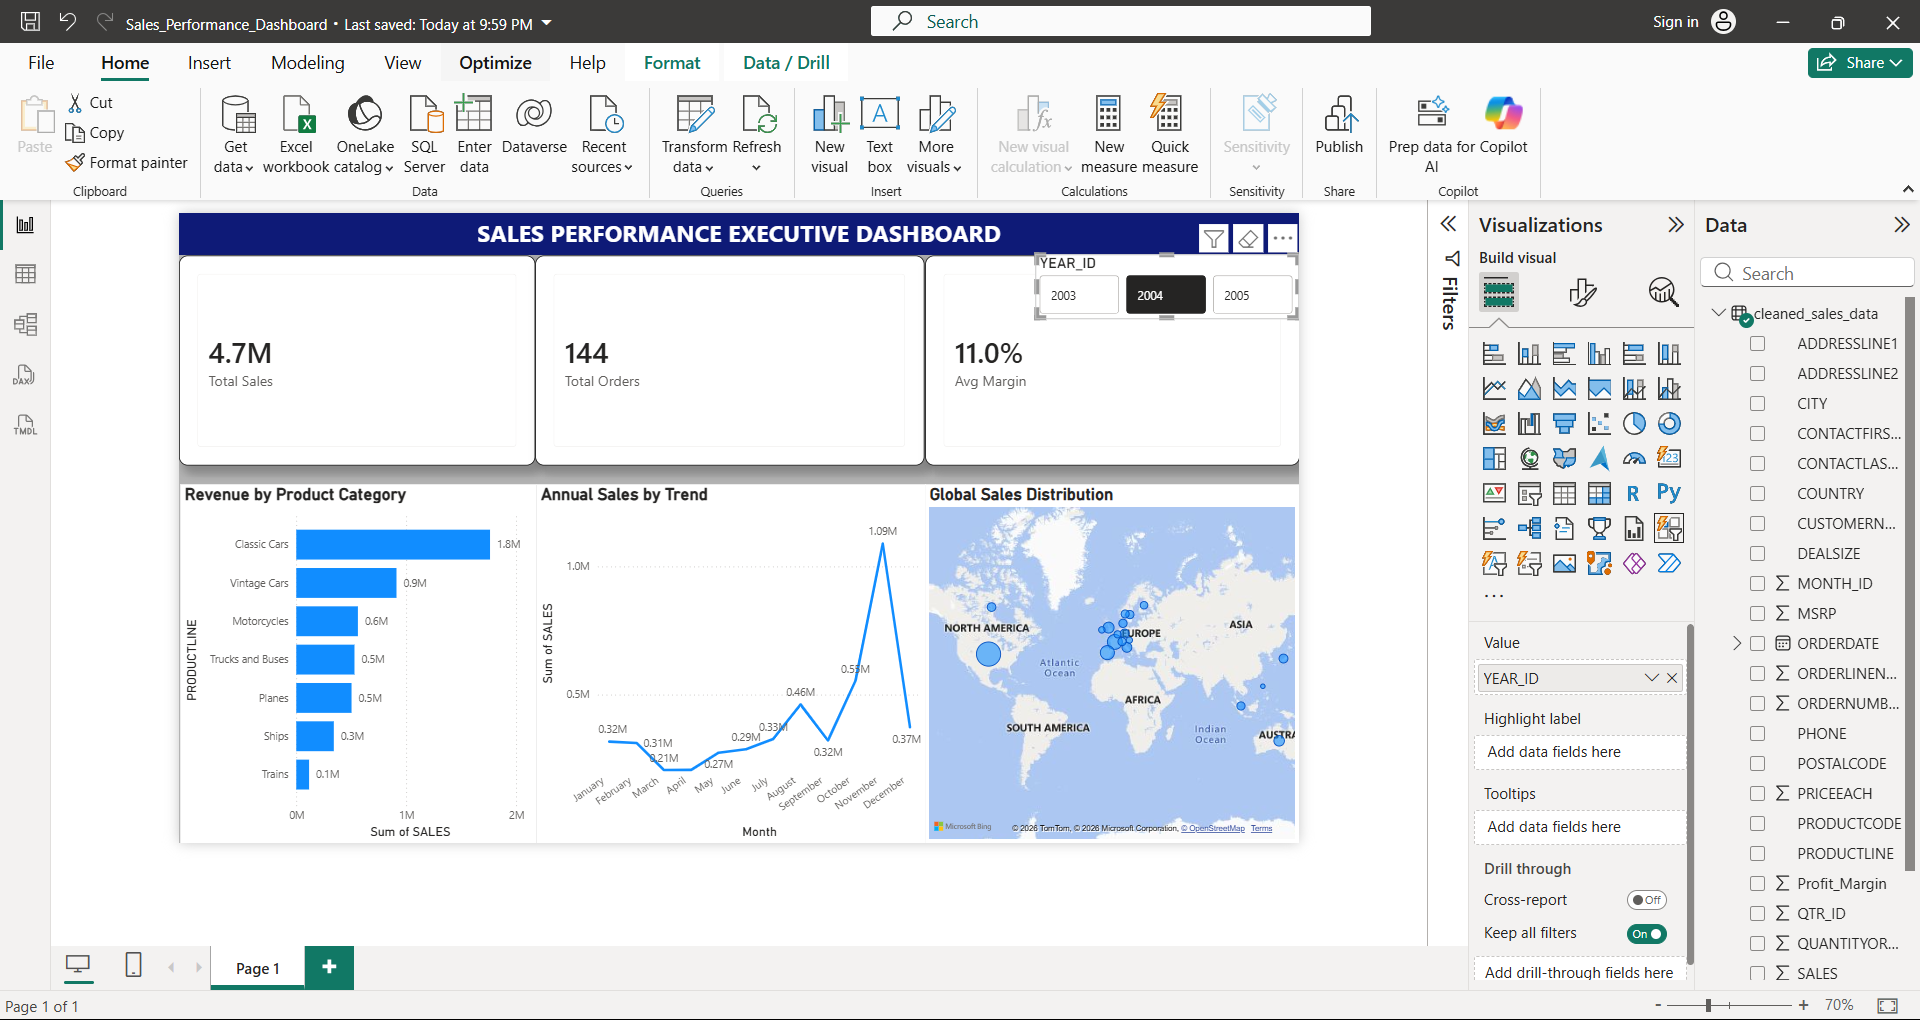

The dashboard page shown, as its layout file describes it:
{"tool":"powerbi","page":{"name":"Page 1","canvas":[1280,720],"ordinal":0},"visuals":[{"type":"shape","box":[0,0,1280.3,48],"z":0},{"type":"textbox","box":[0,0,1280.3,48],"z":1000},{"type":"cardVisual","fields":{"Data":["Sum(cleaned_sales_data.SALES)"]},"box":[0,48,407.5,240.1],"z":2000},{"type":"cardVisual","fields":{"Data":["Count(cleaned_sales_data.ORDERNUMBER)"]},"box":[407.5,48,444.6,240.1],"z":3000},{"type":"cardVisual","fields":{"Data":["Avg(cleaned_sales_data.Profit_Margin)"]},"box":[852.1,48,428.1,240.1],"z":4000},{"type":"lineChart","title":"Annual Sales by Trend","fields":{"Category":["cleaned_sales_data.ORDERDATE.Variation.Date Hierarchy.Year","cleaned_sales_data.ORDERDATE.Variation.Date Hierarchy.Quarter","cleaned_sales_data.ORDERDATE.Variation.Date Hierarchy.Month","cleaned_sales_data.ORDERDATE.Variation.Date Hierarchy.Day"],"Y":["Sum(cleaned_sales_data.SALES)"]},"box":[408.9,310.1,444.6,410.3],"z":5000},{"type":"clusteredBarChart","title":"Revenue by Product Category","fields":{"Category":["cleaned_sales_data.PRODUCTLINE"],"Y":["Sum(cleaned_sales_data.SALES)"]},"box":[1.4,310.1,407.5,410.3],"z":6000},{"type":"map","title":"Global Sales Distribution","fields":{"Category":["cleaned_sales_data.COUNTRY"],"Size":["Sum(cleaned_sales_data.SALES)"]},"box":[853.5,310.1,426.8,410.3],"z":7000},{"type":"advancedSlicerVisual","fields":{"Values":["cleaned_sales_data.YEAR_ID"]},"box":[978.4,46.7,301.9,74.1],"z":8000}]}

Visuals, with their boxes on the page's 1280x720 design canvas (x1, y1, x2, y2). These are canvas units, not pixel positions in the 1920x1020 screenshot, which may show the page scaled, cropped or inside an application window:
shape: locate(0, 0, 1280, 48)
textbox: locate(0, 0, 1280, 48)
cardVisual - Sum(cleaned_sales_data.SALES): locate(0, 48, 408, 288)
cardVisual - Count(cleaned_sales_data.ORDERNUMBER): locate(408, 48, 852, 288)
cardVisual - Avg(cleaned_sales_data.Profit_Margin): locate(852, 48, 1280, 288)
"Annual Sales by Trend" lineChart: locate(409, 310, 854, 720)
"Revenue by Product Category" clusteredBarChart: locate(1, 310, 409, 720)
"Global Sales Distribution" map: locate(854, 310, 1280, 720)
advancedSlicerVisual - cleaned_sales_data.YEAR_ID: locate(978, 47, 1280, 121)
